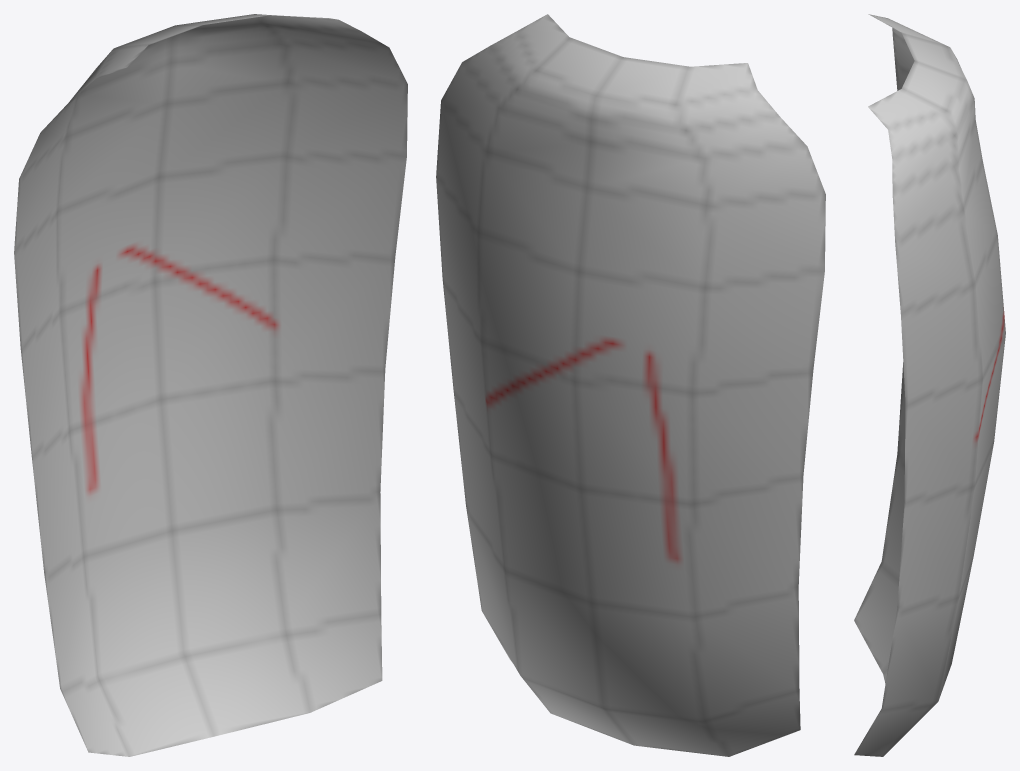
File: CaraNuevo.fbx
The picture shows the model from 3 angles, left to right: view 1: azimuth 30°, elevation 25°; view 2: azimuth 150°, elevation 25°; view 3: azimuth 270°, elevation 25°; orthographic projection. The views are drawn at different scales.
Parts seen in each view (by area): view 1: Oreja_L.017; view 2: Oreja_L.017; view 3: Oreja_L.017.
Boxes of the visible parts, left/top/right/bottom form: Oreja_L.017: left=14, top=14, right=407, bottom=756; Oreja_L.017: left=436, top=14, right=825, bottom=756; Oreja_L.017: left=854, top=14, right=1005, bottom=756.
Size of the model in its own units: 33.06 by 56.63 by 11.8.
